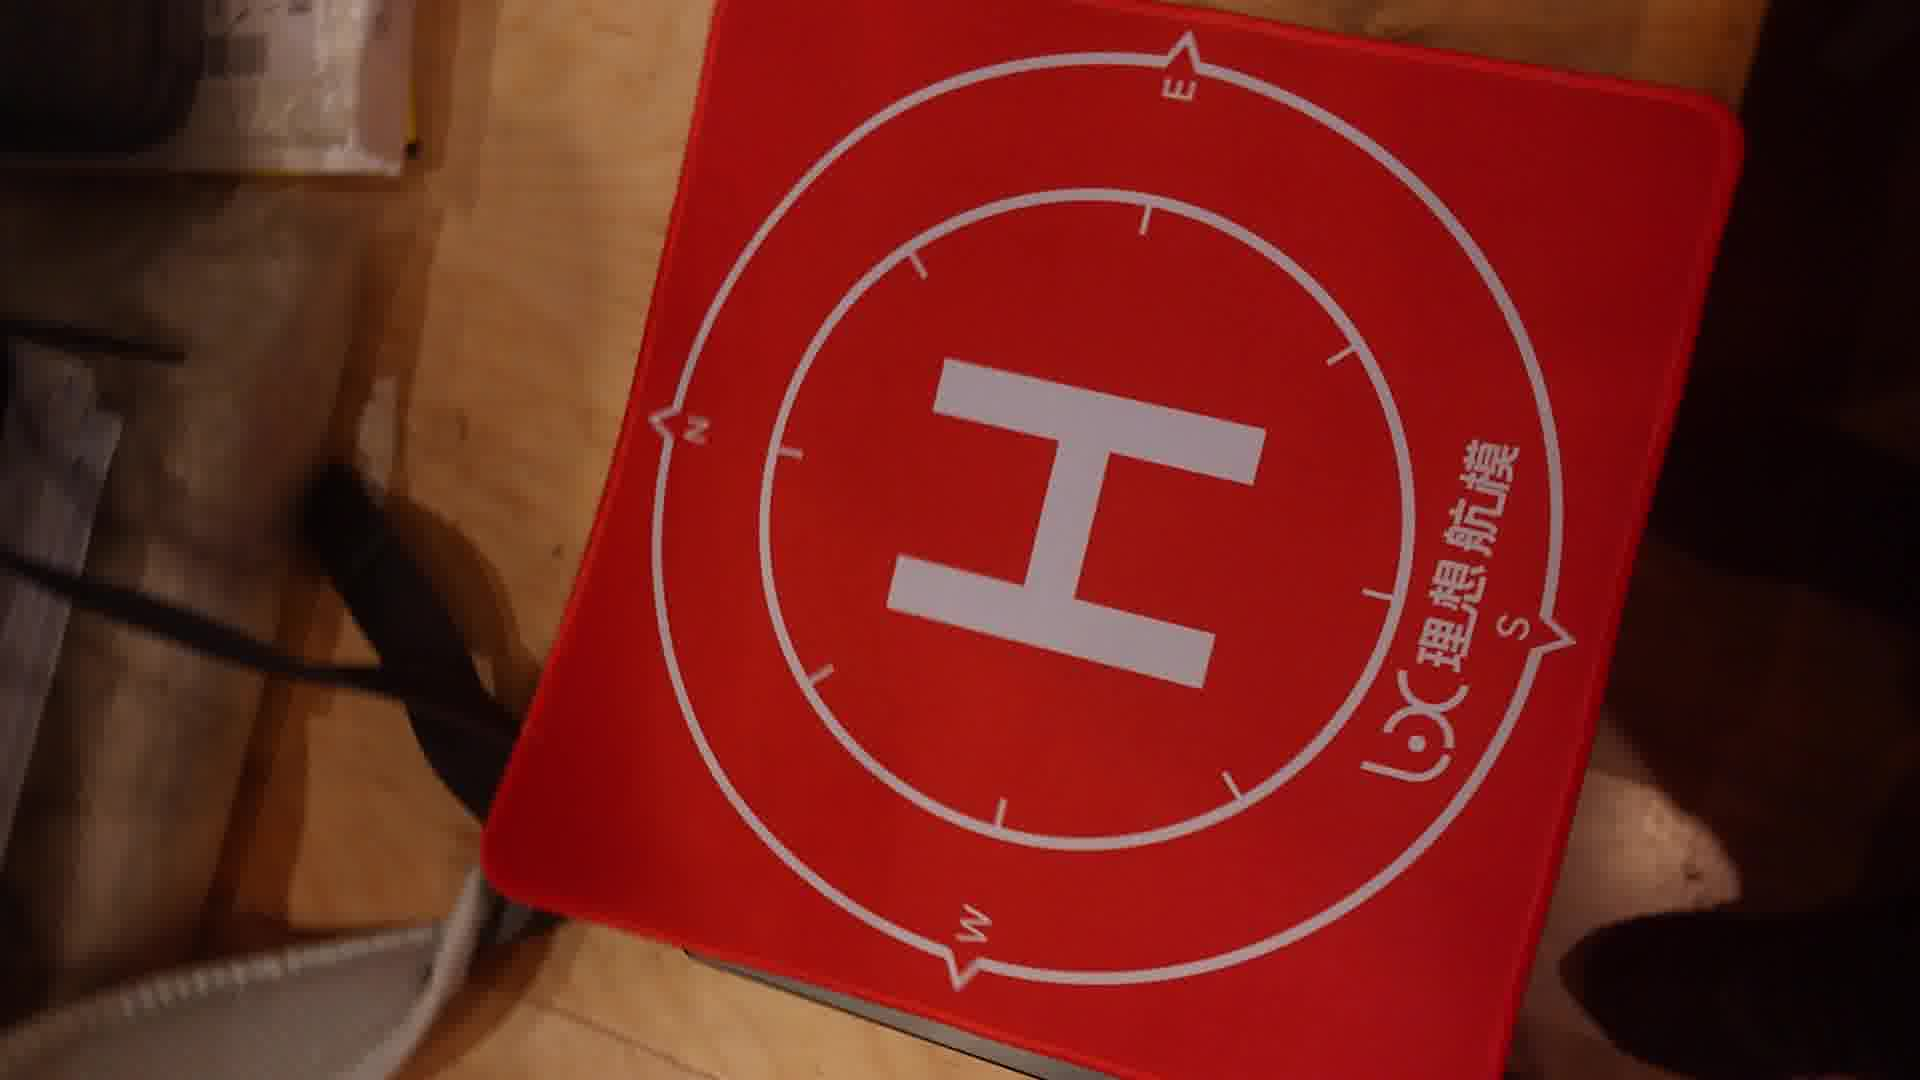H: (885, 357, 1273, 694)
